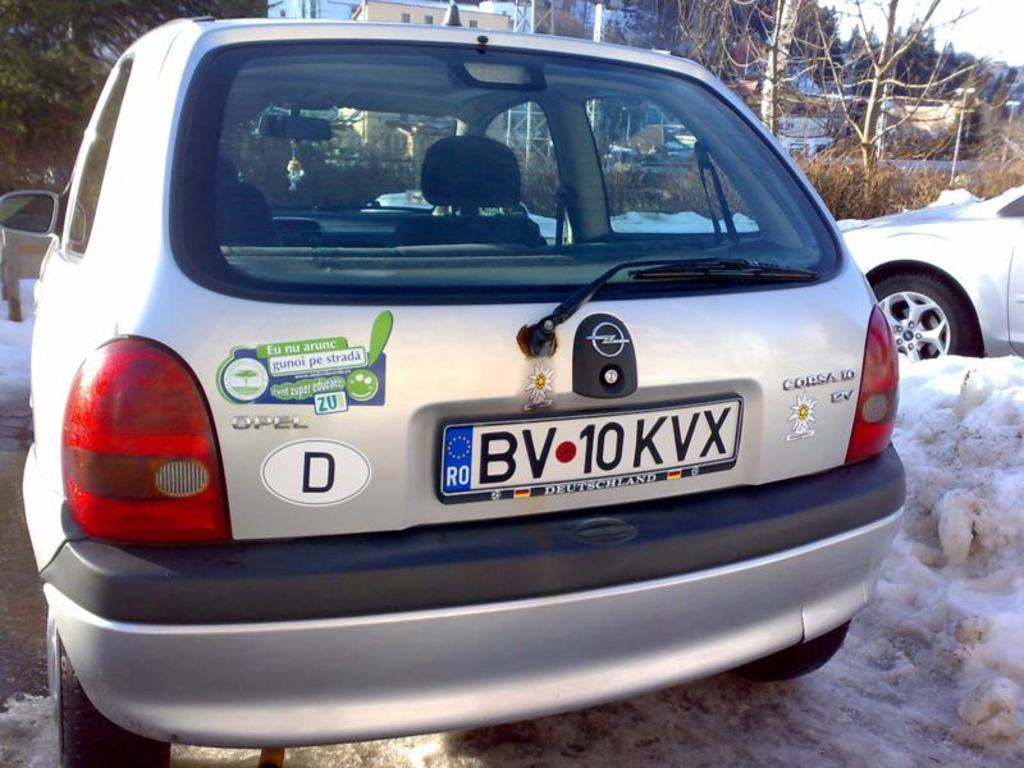license plate: (434, 426, 744, 510)
